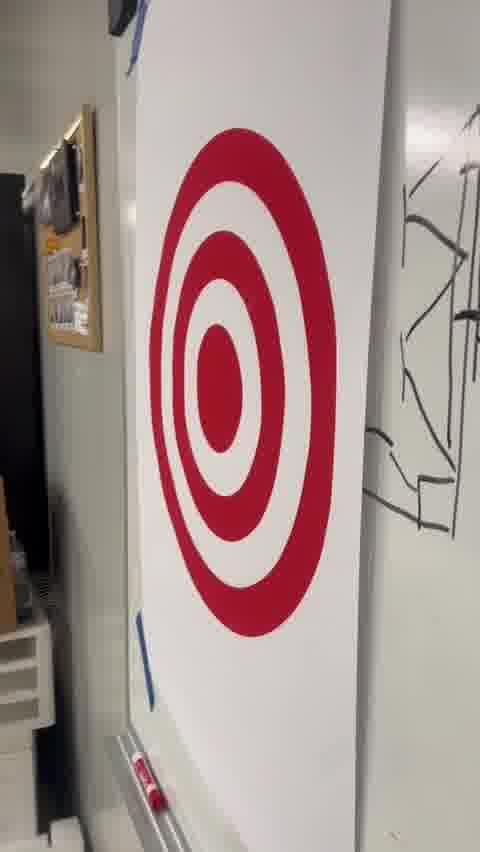target_red: (149, 129, 338, 641)
